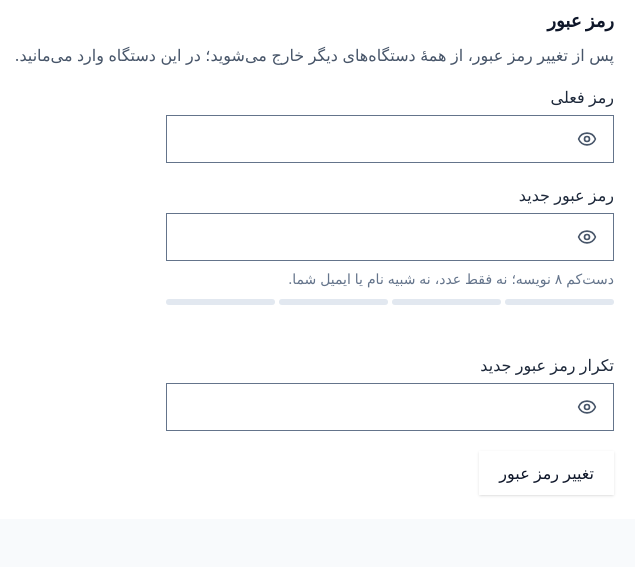
Test: PasswordSection › auth_password_weak: each reason under the new password
In the password field labelled "رمز فعلی": x=366, y=139 x1=167 y1=116 x2=565 y2=162, type "Firefly@1234"
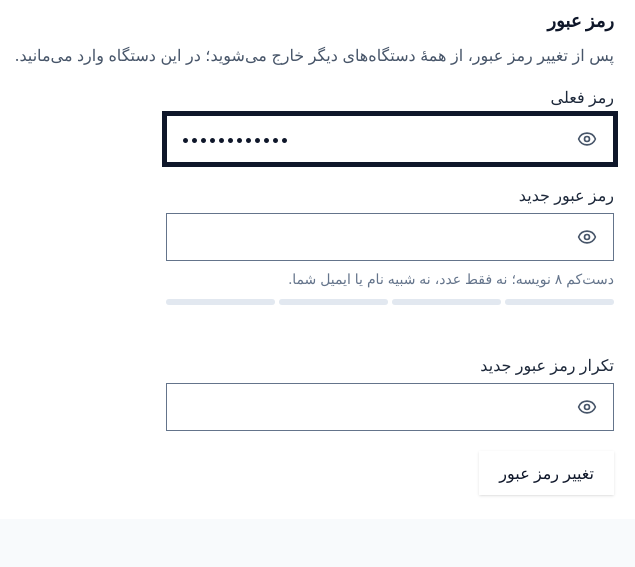
In the password field labelled "رمز عبور جدید": x=366, y=237 x1=167 y1=214 x2=565 y2=260, type "12345678"
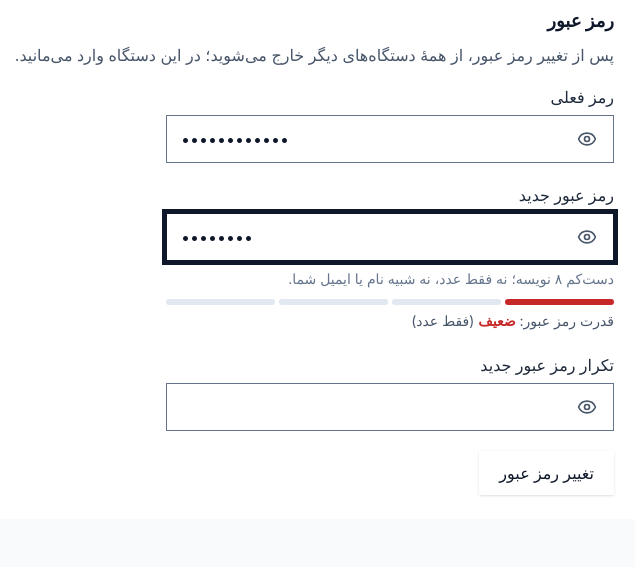
In the password field labelled "تکرار رمز عبور جدید": x=366, y=407 x1=167 y1=384 x2=565 y2=430, type "12345678"
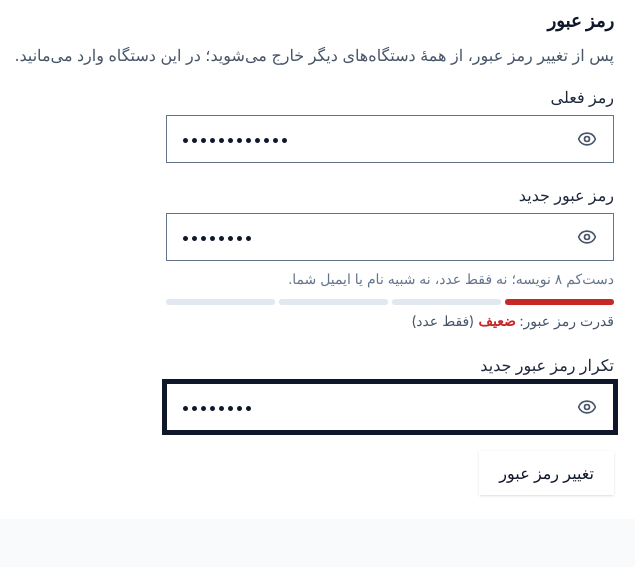
Click the button "تغییر رمز عبور": x=547, y=473 x1=479 y1=451 x2=614 y2=495
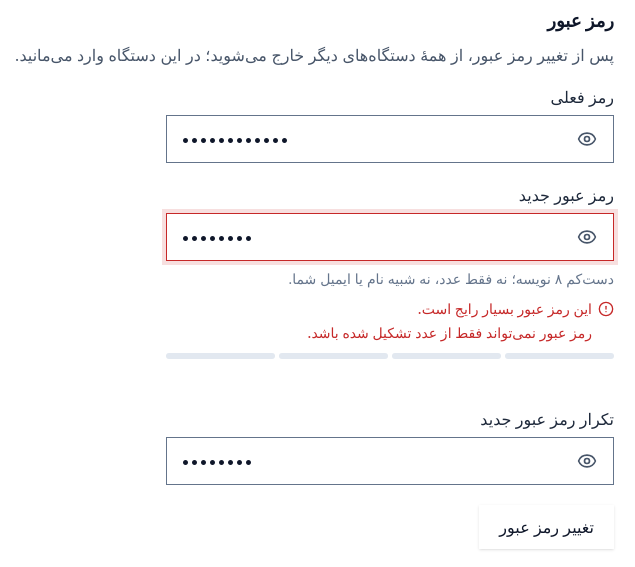
Result: the text "این رمز عبور بسیار رایج است." is shown at x1=418 y1=300 x2=592 y2=317
Result: the text "رمز عبور نمی‌تواند فقط از عدد تشکیل شده باشد." is shown at x1=307 y1=321 x2=592 y2=345
